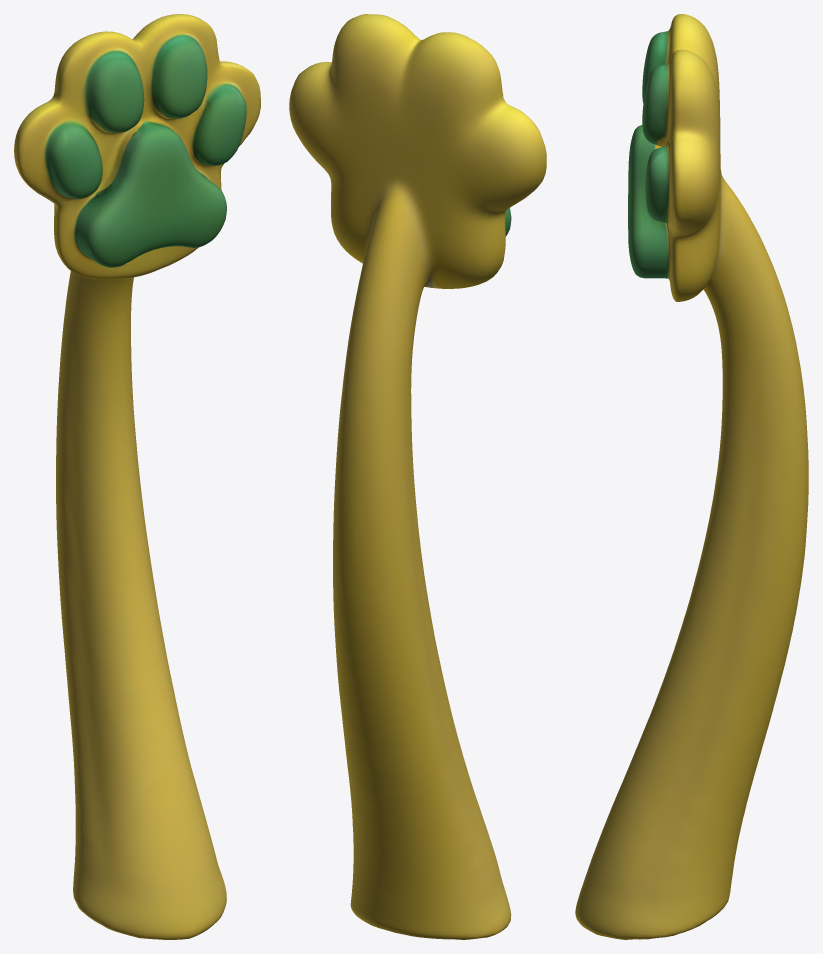
File: jelly_paw.glb
The picture shows the model from 3 angles, left to right: view 1: azimuth 30°, elevation 25°; view 2: azimuth 150°, elevation 25°; view 3: azimuth 270°, elevation 25°; orthographic projection. The views are drawn at different scales.
Parts seen in each view (by area): view 1: base; view 2: base; view 3: base.
Part boxes in pixels (x1,y1,x2,y2): base: [14, 14, 260, 939]; base: [289, 14, 546, 939]; base: [575, 14, 808, 939].
Bounding box in the file's own units: 0.5513 × 1.91 × 0.4572.
Materials: 1 (1 with a texture image).
